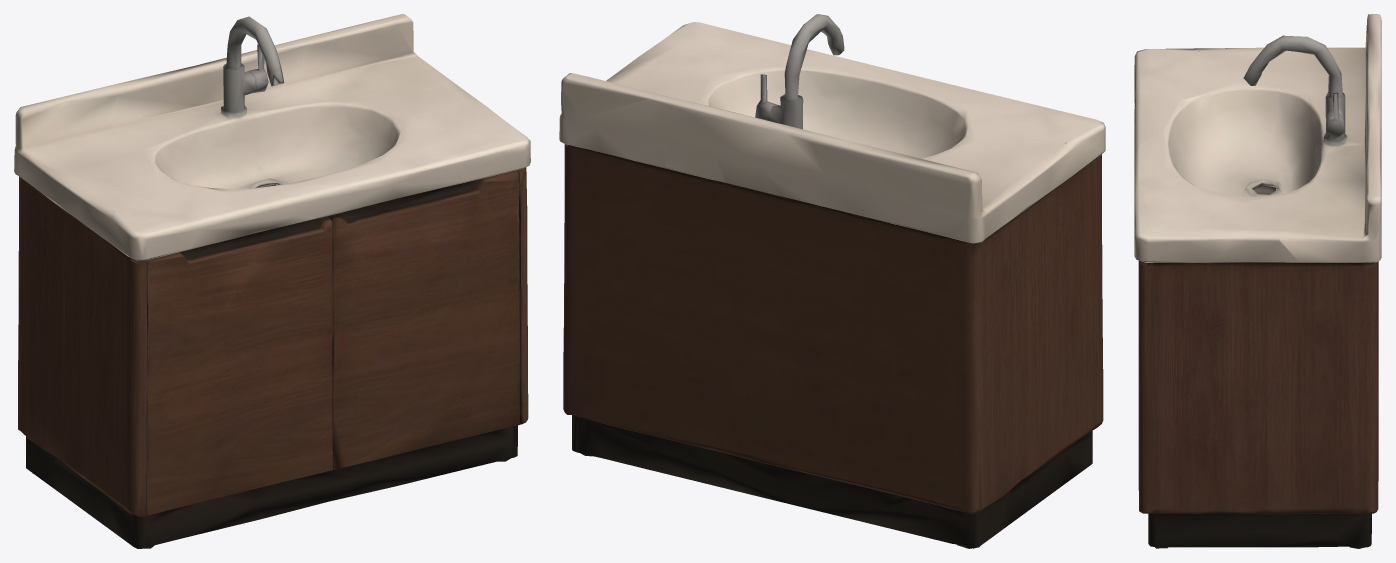
File: ward_vanity_v1.glb
3 renders of one model, left to right at view 1: azimuth 30°, elevation 25°; view 2: azimuth 150°, elevation 25°; view 3: azimuth 270°, elevation 25°, orthographic. The views are drawn at different scales.
Parts seen in each view (by area): view 1: WardVanityV1; view 2: WardVanityV1; view 3: WardVanityV1.
Boxes of the visible parts, <box> form: WardVanityV1: <box>14,14,530,548</box>; WardVanityV1: <box>559,14,1105,548</box>; WardVanityV1: <box>1134,14,1381,548</box>.
Bounding box in the file's own units: 1.1 × 1.13 × 0.6.
Materials: 1 (1 with a texture image).
